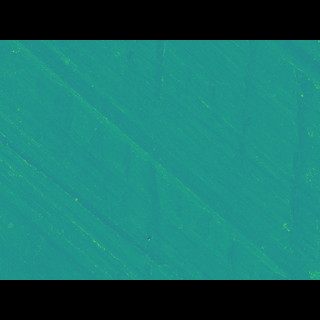Loch: (112, 146, 163, 200)
